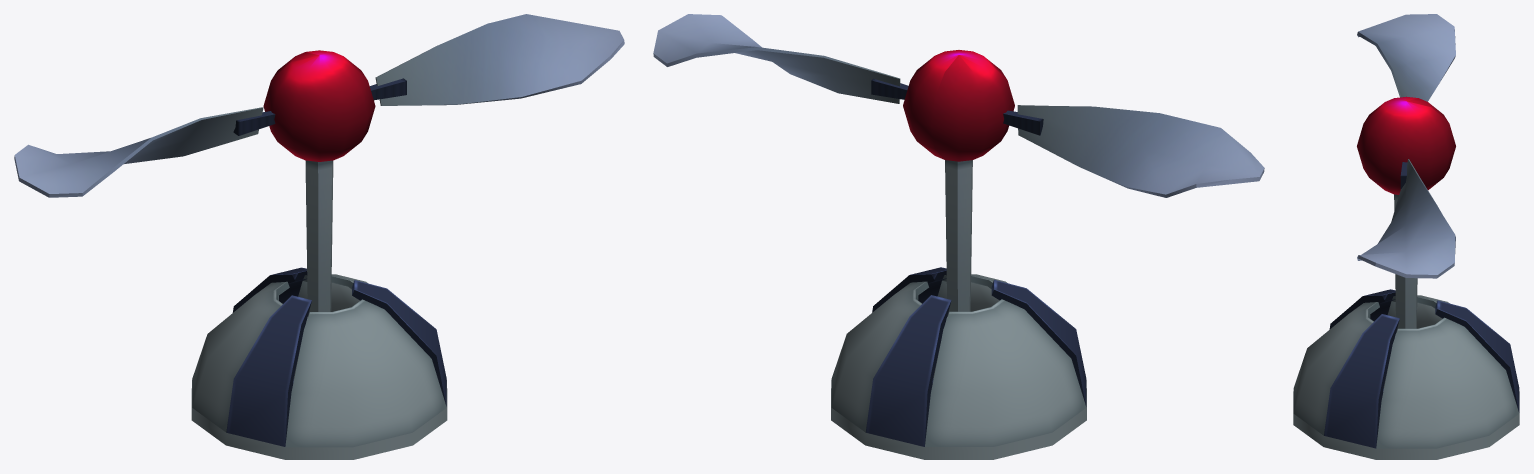
File: Speeding.FBX
The picture shows the model from 3 angles, left to right: view 1: azimuth 30°, elevation 25°; view 2: azimuth 150°, elevation 25°; view 3: azimuth 270°, elevation 25°; orthographic projection. The views are drawn at different scales.
Parts seen in each view (by area): view 1: Speeding, wing; view 2: Speeding, wing; view 3: Speeding, wing.
Boxes of the visible parts, x1=… form: Speeding: x1=191, y1=160, x2=447, y2=459; wing: x1=14, y1=14, x2=624, y2=197; Speeding: x1=831, y1=160, x2=1086, y2=459; wing: x1=653, y1=14, x2=1264, y2=197; Speeding: x1=1293, y1=194, x2=1519, y2=459; wing: x1=1357, y1=14, x2=1455, y2=278.
Size of the model in its own units: 0.2352 by 0.1312 by 0.0867.
